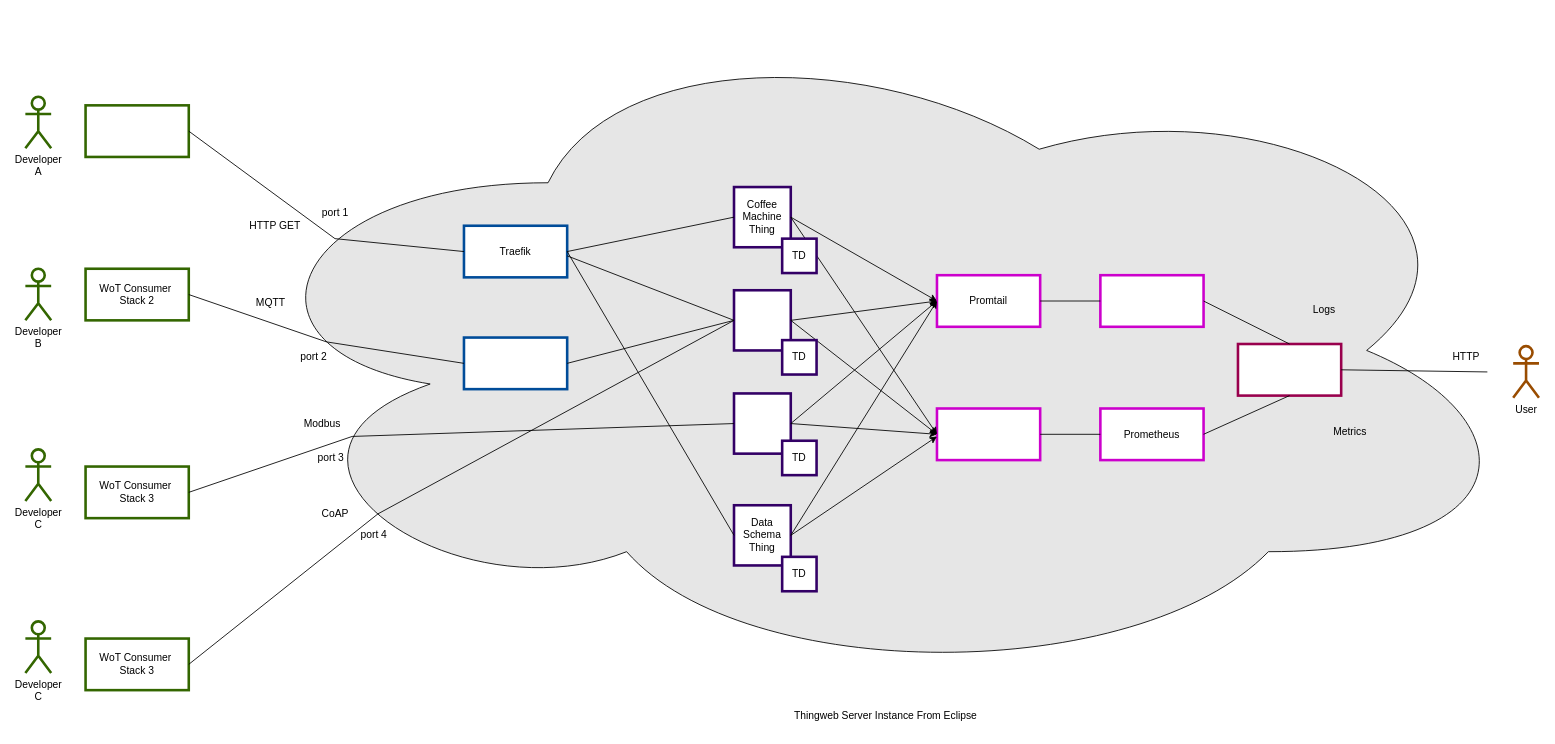
This 1555x744 diagram has some shape labels left out. The shapes that lost their labels are listed below. From the top down, each one's centre as x and y in pixels, then its label:
the point at 137,131: WoT Consumer Stack 1
the point at 762,320: Calculator Thing
the point at 1151,300: Loki
the point at 515,363: MQTT Broker
the point at 1289,369: Grafana
the point at 762,423: Elevator Thing
the point at 988,434: cAdvisor
